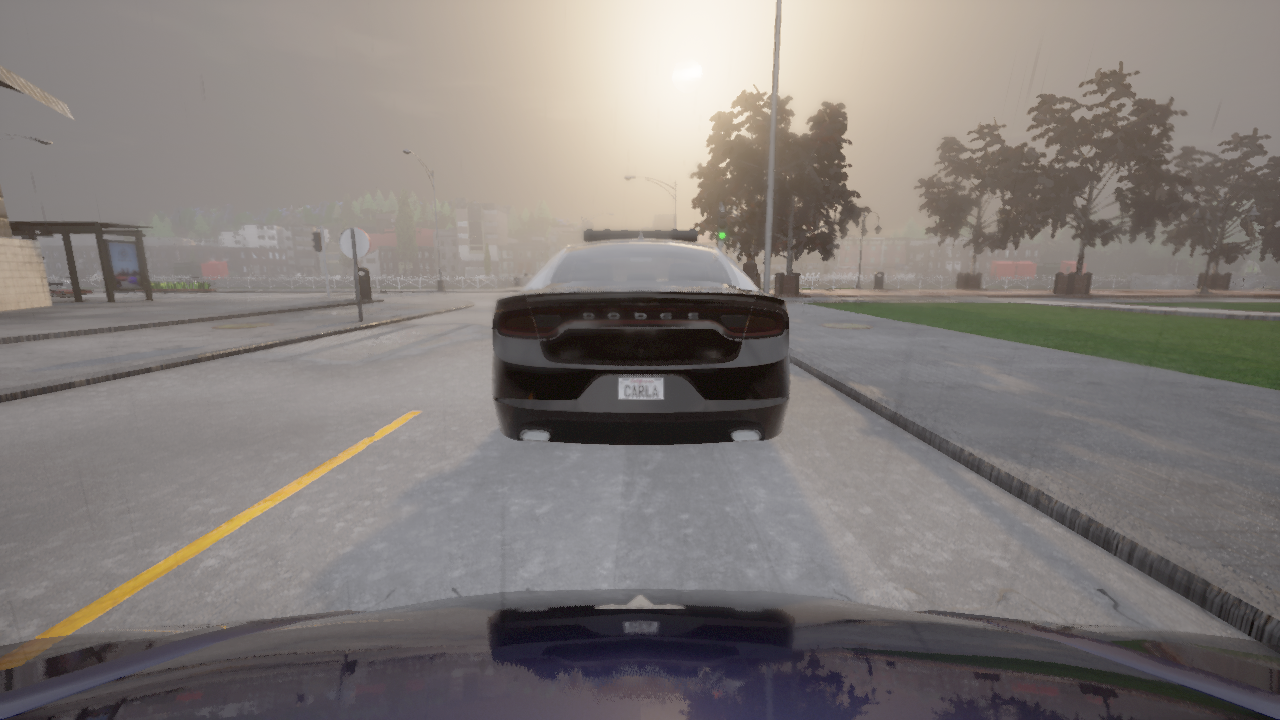cyclist: (0, 588, 1279, 719), (492, 228, 789, 445)
pedestrian: (742, 252, 758, 282)
